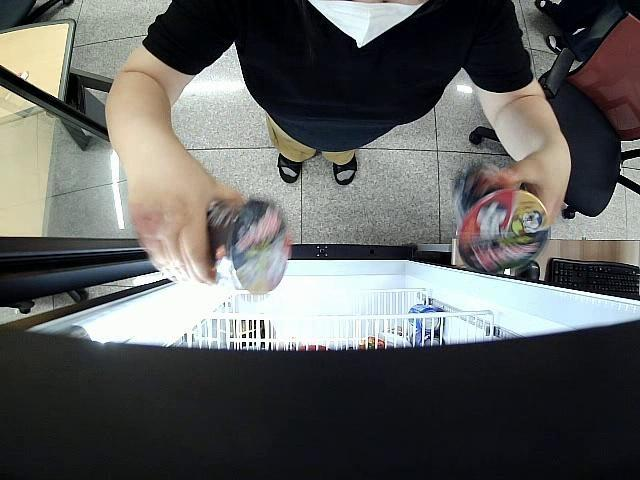08_buldak_S: (448, 160, 548, 271), (204, 195, 291, 294)
